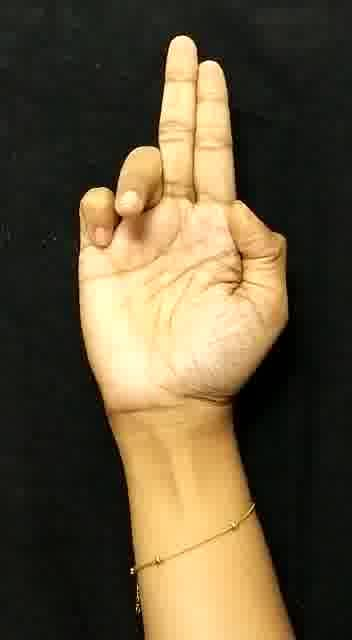ardhpataka: (58, 19, 304, 419)
